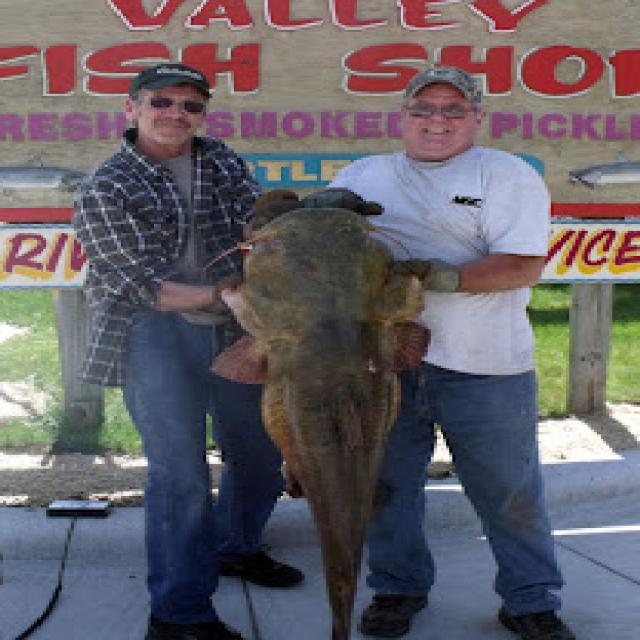Catfish - Flathead: (224, 209, 422, 639)
